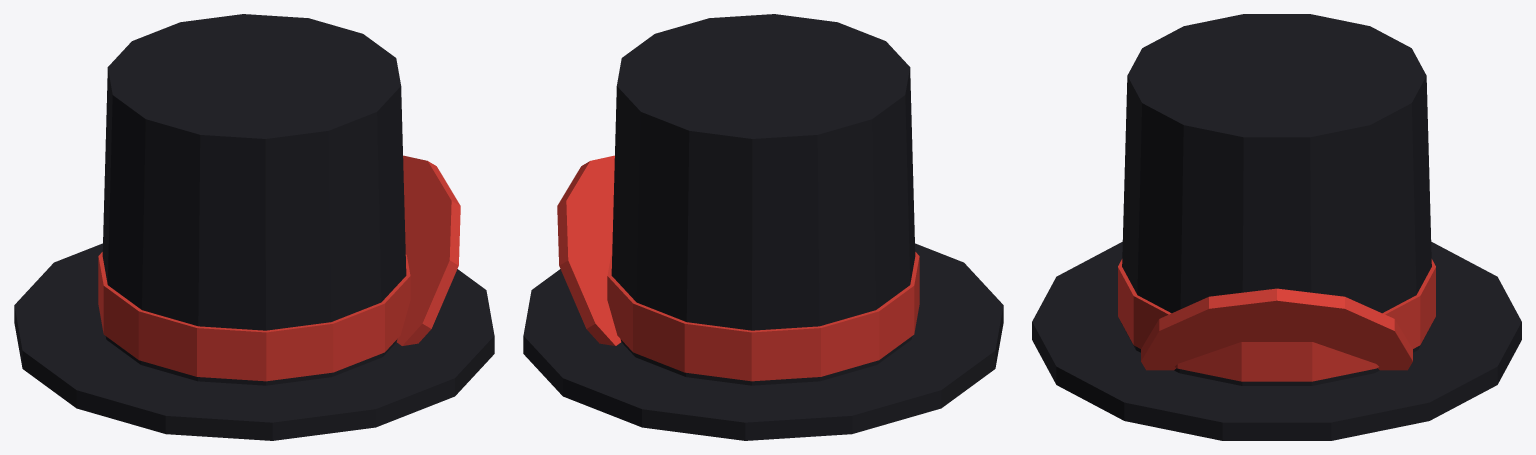
The model's file is double_hat.glb.
3 views of the same model, side by side, from view 1: azimuth 30°, elevation 25°; view 2: azimuth 150°, elevation 25°; view 3: azimuth 270°, elevation 25° (orthographic).
Parts seen in each view (by area): view 1: crown_double_hat_felt, brim_double_hat_felt, band_double_hat_band, bottom_double_hat_band; view 2: crown_double_hat_felt, brim_double_hat_felt, band_double_hat_band, bottom_double_hat_band; view 3: crown_double_hat_felt, brim_double_hat_felt, bottom_double_hat_band, band_double_hat_band.
Part boxes in pixels (box(x1,y1,x2,y2)): crown_double_hat_felt: box(102, 14, 406, 385); brim_double_hat_felt: box(14, 243, 494, 440); band_double_hat_band: box(98, 252, 410, 381); bottom_double_hat_band: box(396, 155, 460, 345); crown_double_hat_felt: box(611, 14, 915, 385); brim_double_hat_felt: box(523, 243, 1003, 440); band_double_hat_band: box(607, 252, 919, 381); bottom_double_hat_band: box(557, 155, 621, 345); crown_double_hat_felt: box(1121, 14, 1432, 385); brim_double_hat_felt: box(1032, 242, 1521, 440); bottom_double_hat_band: box(1141, 288, 1412, 370); band_double_hat_band: box(1118, 259, 1435, 381).
Size of the model in its own units: 0.351 by 0.2664 by 0.36.
